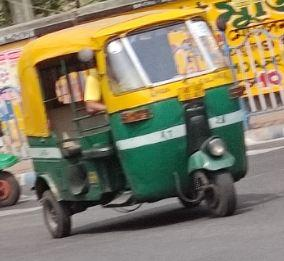Auto: (14, 6, 250, 237)
